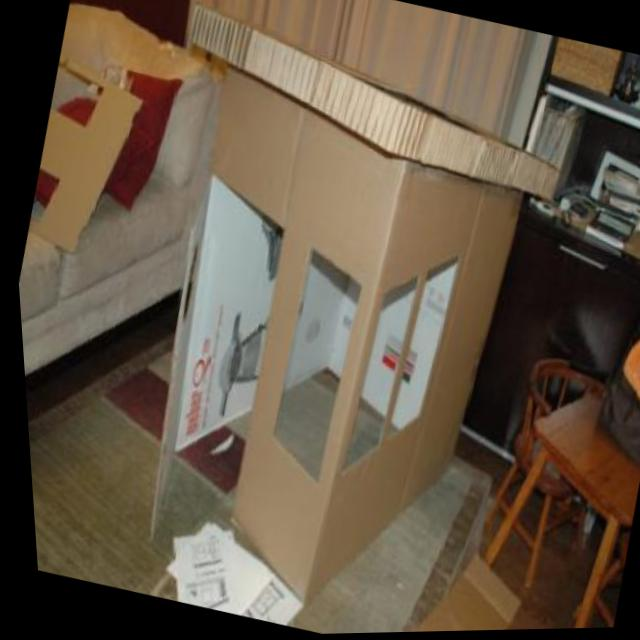box: (58, 0, 604, 638)
